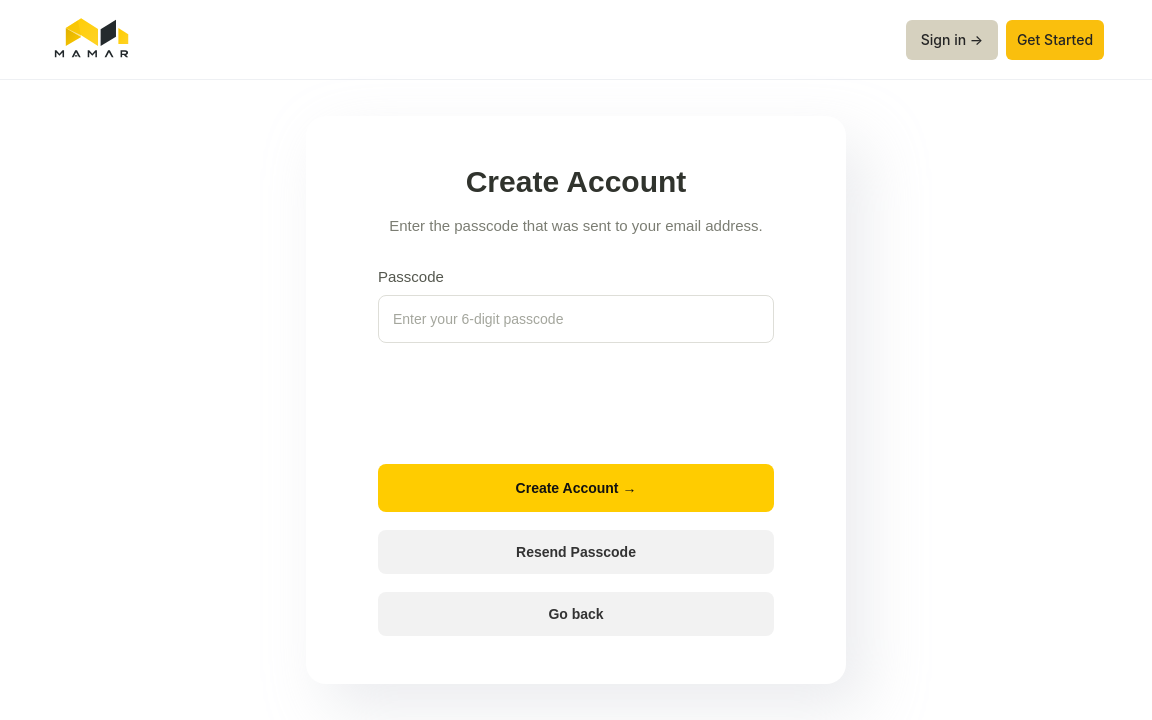
Test: RegisterVerificationPage - إنشاء الحساب › فشل التسجيل برسالة
In the field labelled "Passcode": (576, 319) [378,295,774,343], type "123456"
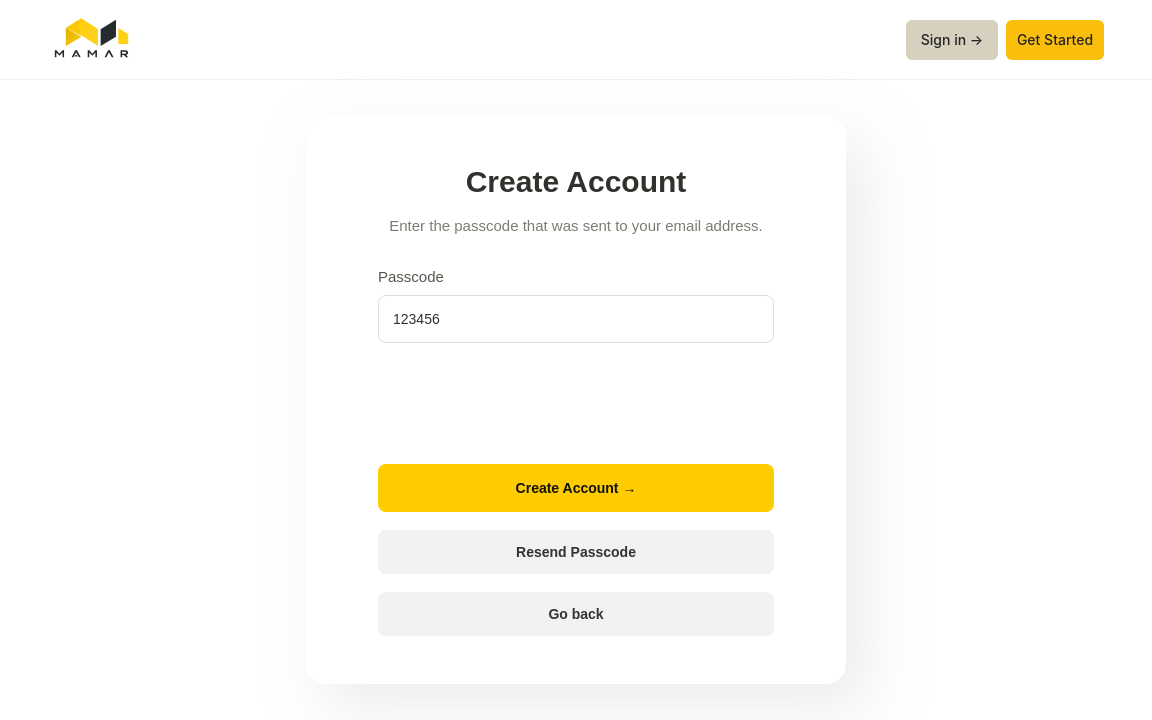
Click the button "Create Account →": (576, 488) [378,464,774,512]
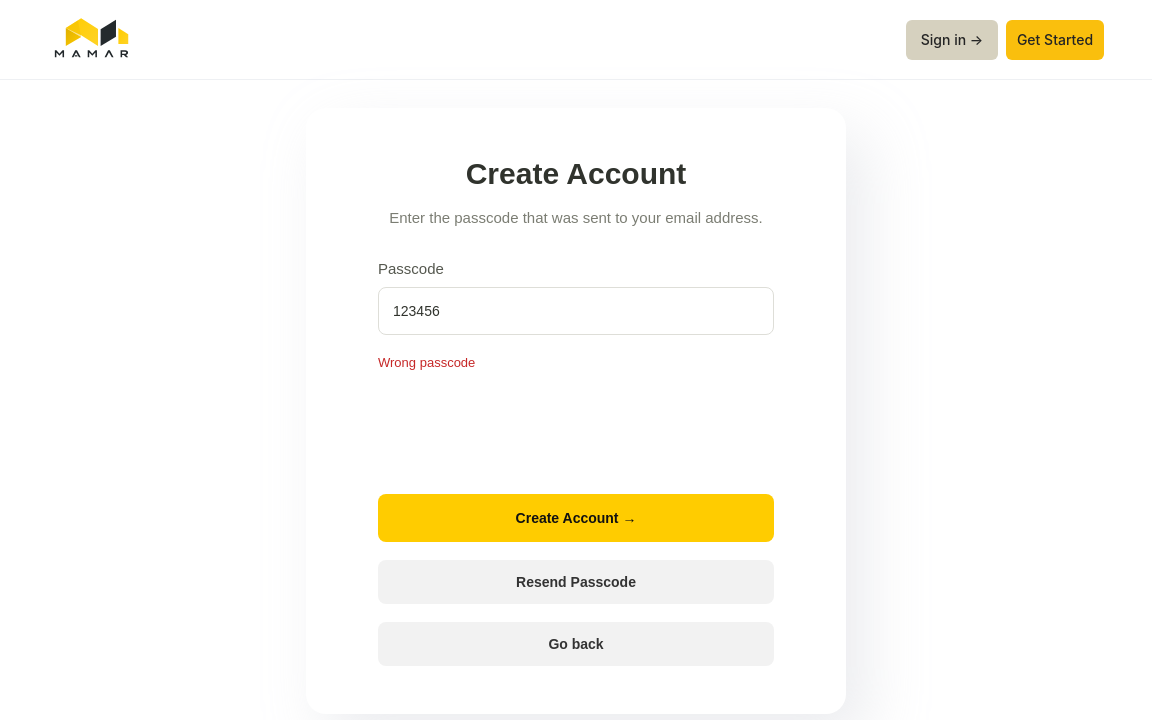
Now the message reads "Wrong passcode", box [378,355,475,370]
